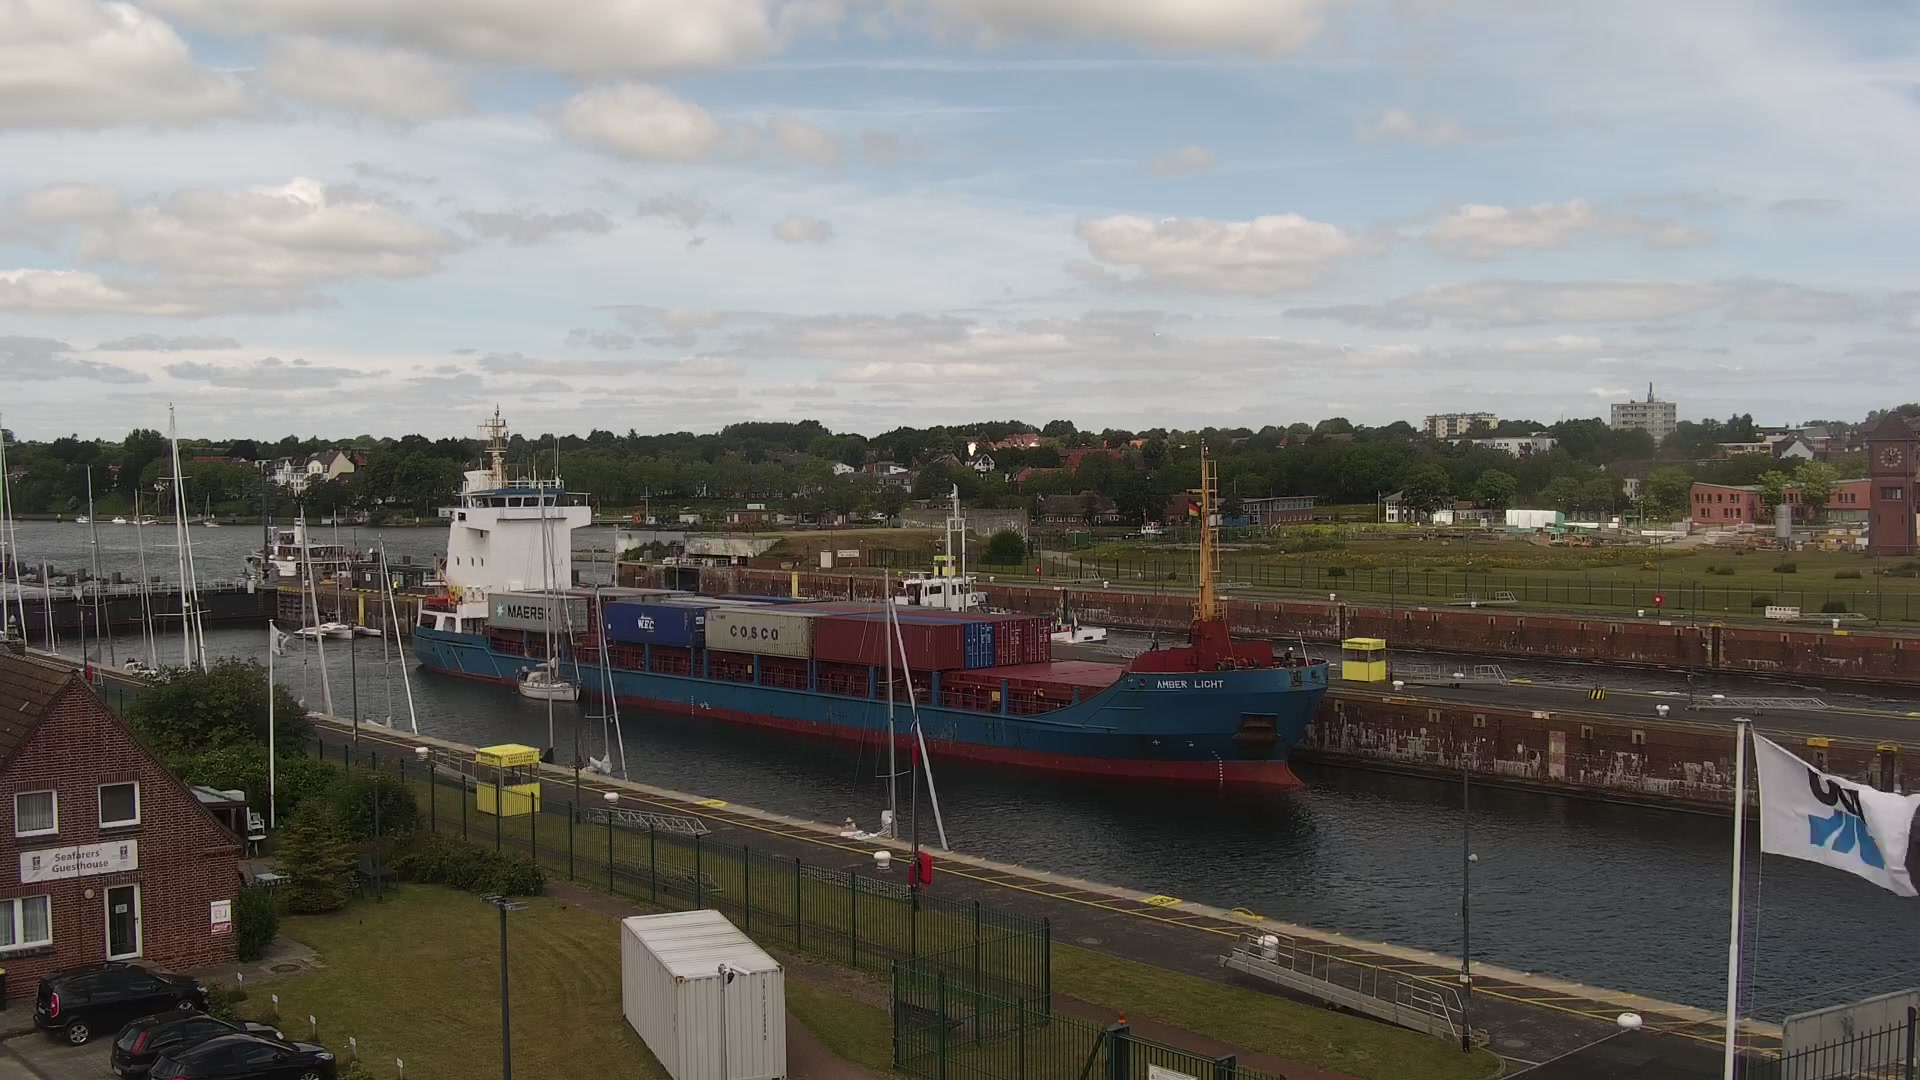human: (1147, 628, 1160, 651), (1284, 646, 1294, 665), (392, 578, 399, 595), (1056, 614, 1062, 632)
land: (31, 958, 208, 1045), (110, 1007, 285, 1078), (146, 1031, 336, 1080), (1570, 534, 1601, 548), (1548, 531, 1570, 546), (870, 511, 888, 520)
sea: (408, 401, 1329, 790), (291, 502, 381, 641), (202, 491, 221, 528), (140, 514, 159, 524), (75, 512, 90, 523), (111, 515, 127, 523)
